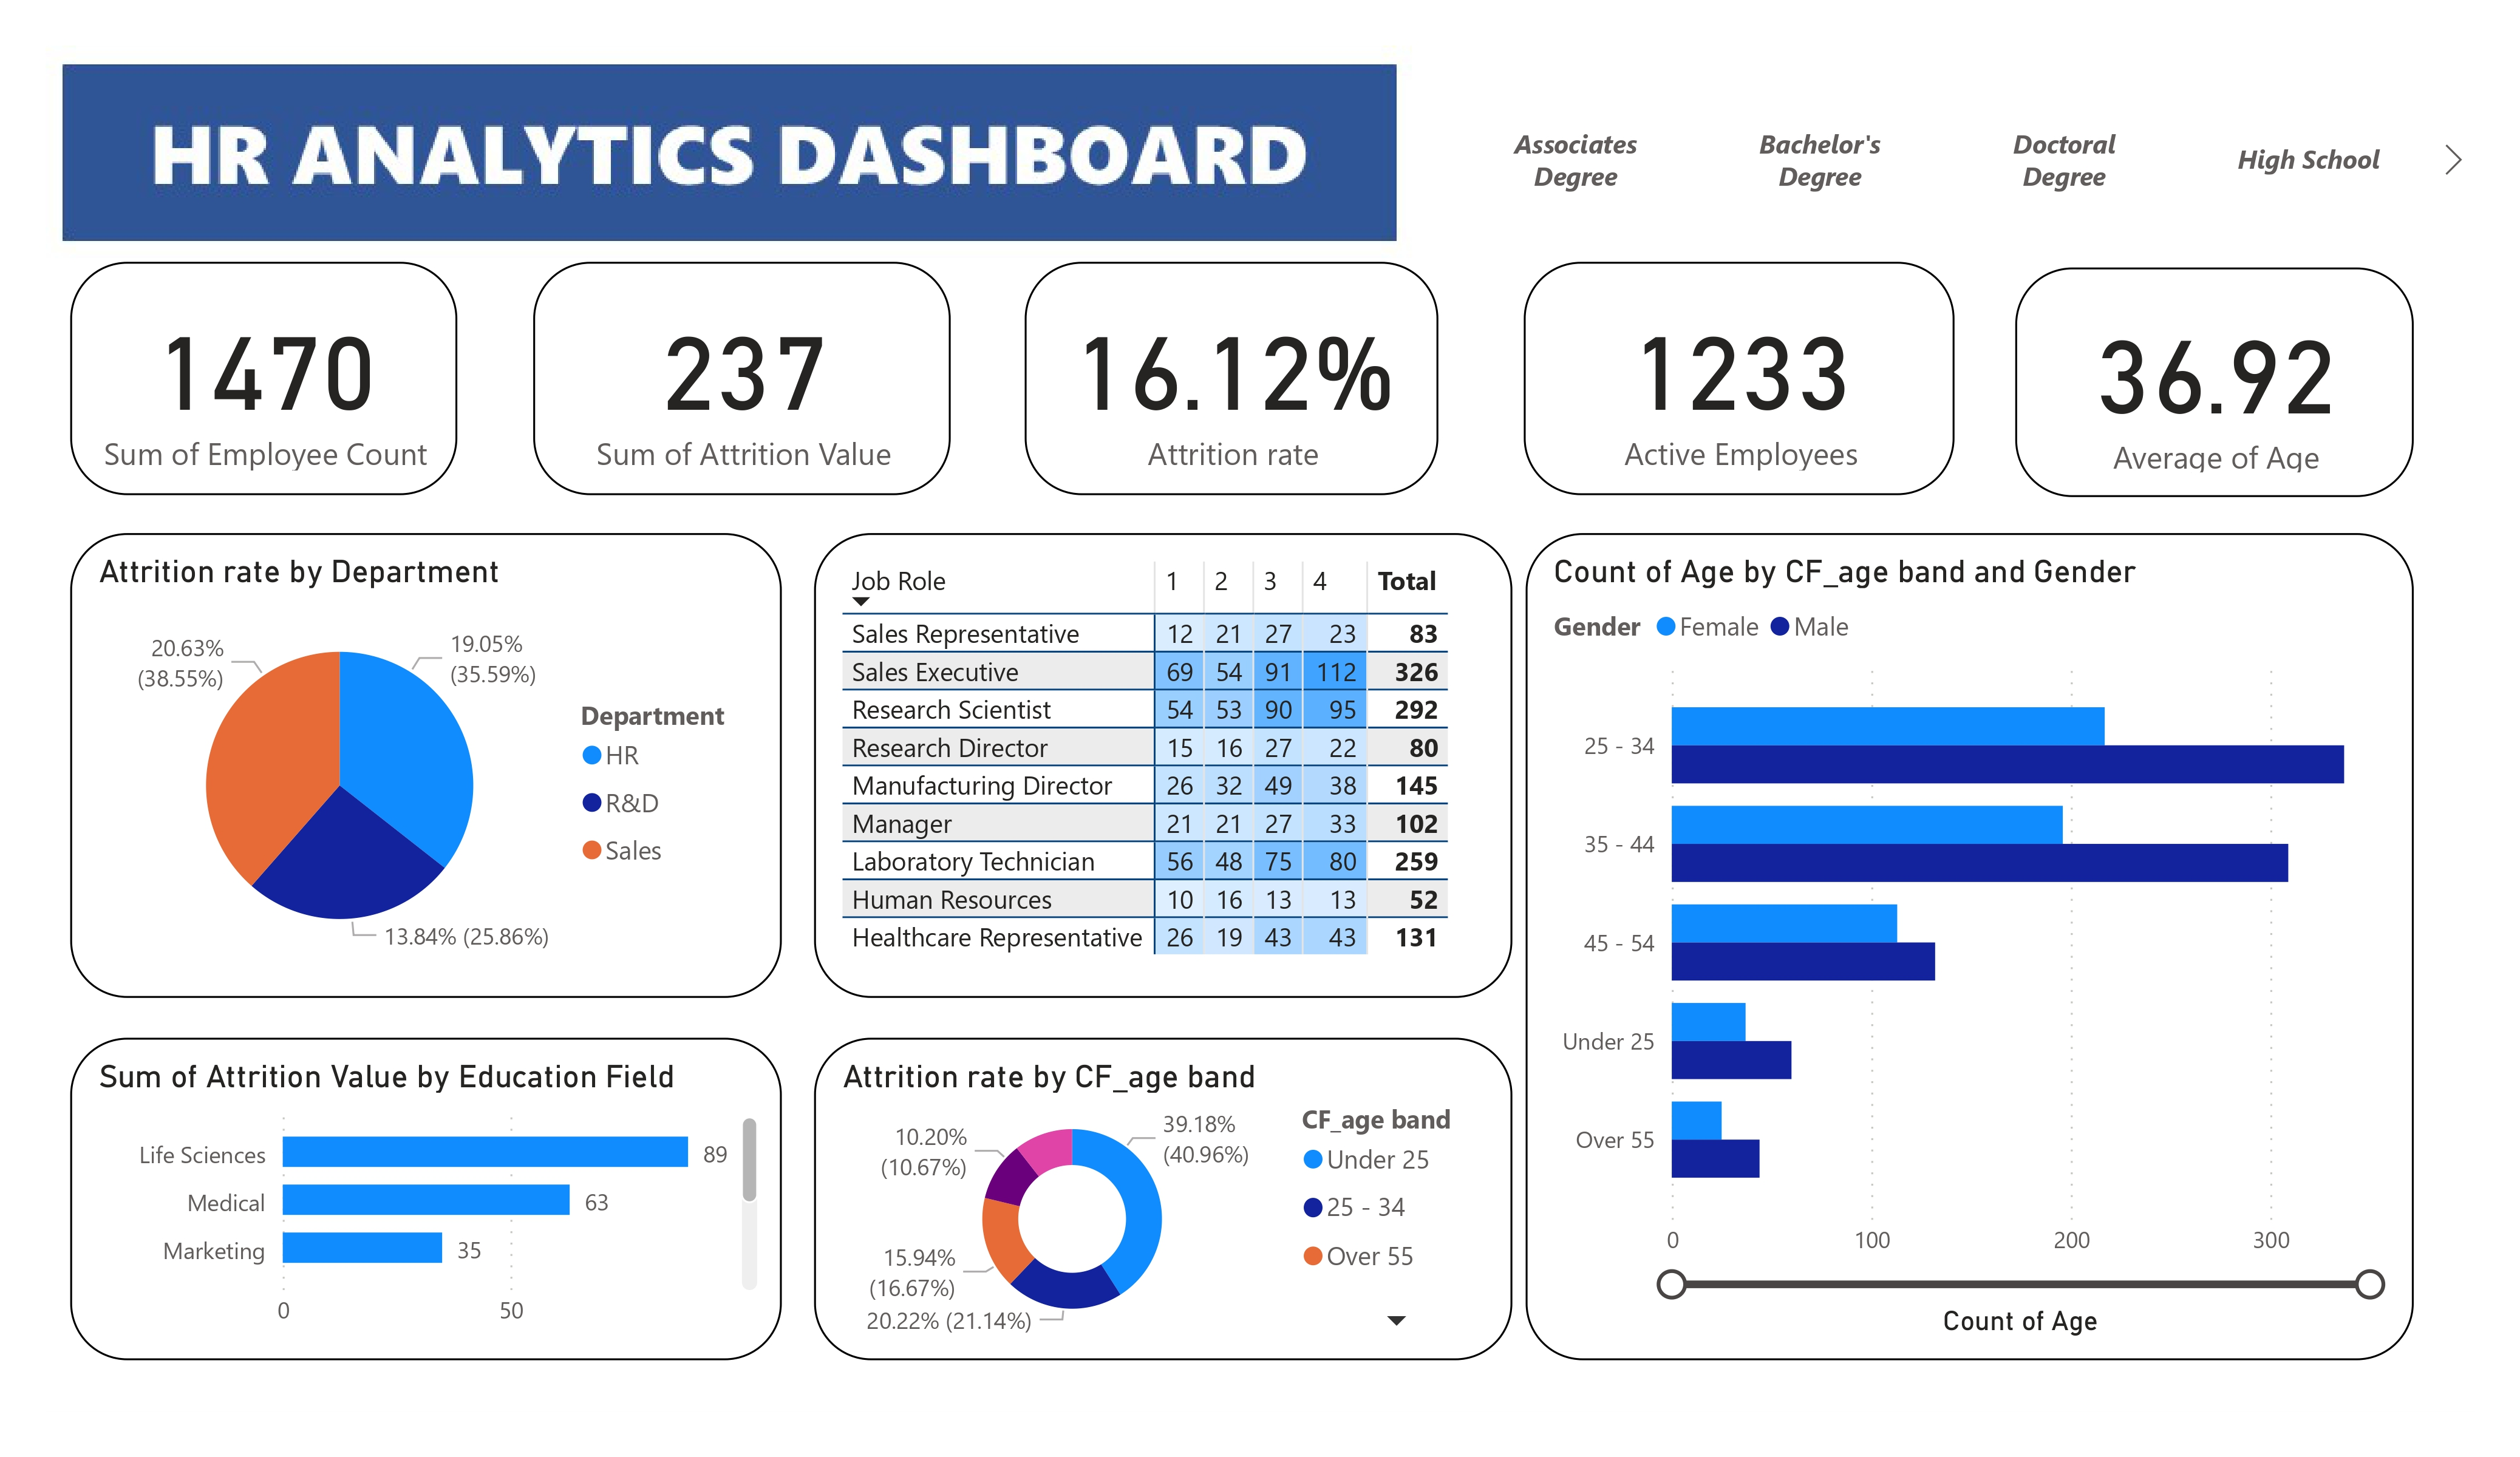

This screenshot's page, from the dashboard's own definition file:
{"tool":"powerbi","page":{"name":"Page 1","canvas":[1280,720],"ordinal":0},"visuals":[{"type":"card","fields":{"Values":["Sum(HR data.Employee Count)"]},"box":[13.4,114.2,203.3,122.6],"z":0},{"type":"card","fields":{"Values":["Sum(HR data.Attrition Value)"]},"box":[257,114.2,220.1,122.6],"z":1000},{"type":"card","fields":{"Values":["HR data.Attrition rate"]},"box":[515.7,114.2,218.4,122.6],"z":2000},{"type":"card","fields":{"Values":["HR data.Active Employees"]},"box":[779.4,114.2,226.8,122.6],"z":3000},{"type":"card","fields":{"Values":["Avg(HR data.Age)"]},"box":[1046.5,114.2,210,122.6],"z":4000},{"type":"slicer","fields":{"Values":["HR data.Education"]},"box":[717.3,18.5,562.7,82.3],"z":5000},{"type":"pieChart","fields":{"Y":["HR data.Attrition rate"],"Series":["HR data.Department"]},"box":[13.4,257,374.6,245.2],"z":6000},{"type":"clusteredBarChart","fields":{"Category":["HR data.CF_age band"],"Y":["CountNonNull(HR data.Age)"],"Series":["HR data.Gender"]},"box":[404.8,257,468.7,245.2],"z":7000},{"type":"pivotTable","fields":{"Rows":["HR data.Job Role"],"Columns":["HR data.Job Satisfaction"],"Values":["Sum(HR data.Employee Count)"]},"box":[912.1,257,367.9,245.2],"z":8000},{"type":"clusteredBarChart","fields":{"Category":["HR data.Education Field"],"Y":["Sum(HR data.Attrition Value)"]},"box":[13.4,524.1,260.4,169.7],"z":9000},{"type":"donutChart","title":"25-34","fields":{"Y":["Sum(HR data.Attrition Value)"],"Category":["HR data.Gender"],"Series":["HR data.CF_age band"]},"box":[477.1,524.1,230.1,169.7],"z":10000},{"type":"donutChart","title":"35-44","fields":{"Y":["Sum(HR data.Attrition Value)"],"Category":["HR data.Gender"],"Series":["HR data.CF_age band"]},"box":[693.8,524.1,218.4,169.7],"z":11000},{"type":"donutChart","title":"45-54 ","fields":{"Y":["Sum(HR data.Attrition Value)"],"Category":["HR data.Gender"],"Series":["HR data.CF_age band"]},"box":[860.1,524.1,218.4,169.7],"z":12000},{"type":"donutChart","title":"Over 55 ","fields":{"Y":["Sum(HR data.Attrition Value)"],"Category":["HR data.Gender"],"Series":["HR data.CF_age band"]},"box":[1046.5,524.1,218.4,169.7],"z":13000},{"type":"card","fields":{"Values":["Sum(HR data.Attrition Value)"]},"box":[544.3,589.6,95.7,62.2],"z":14000},{"type":"card","fields":{"Values":["Sum(HR data.Attrition Value)"]},"box":[764.3,589.6,77.3,62.2],"z":15000},{"type":"card","fields":{"Values":["Sum(HR data.Attrition Value)"]},"box":[903.7,604.7,129.3,31.9],"z":16000},{"type":"donutChart","title":"Under 25","fields":{"Y":["Sum(HR data.Attrition Value)"],"Category":["HR data.Gender"]},"box":[273.8,524.1,221.7,169.7],"z":17000},{"type":"card","fields":{"Values":["Sum(HR data.Attrition Value)"]},"box":[334.3,582.9,100.8,75.6],"z":18000},{"type":"card","fields":{"Values":["Sum(HR data.Attrition Value)"]},"box":[1085.1,579.5,139.4,84],"z":18001}]}

Visuals, with their boxes on the page's 1280x720 design canvas (x1, y1, x2, y2). These are canvas units, not pixel positions in the 2520x1457 screenshot, which may show the page scaled, cropped or inside an application window:
card - Sum(HR data.Employee Count): 13:114:217:237
card - Sum(HR data.Attrition Value): 257:114:477:237
card - HR data.Attrition rate: 516:114:734:237
card - HR data.Active Employees: 779:114:1006:237
card - Avg(HR data.Age): 1046:114:1256:237
slicer - HR data.Education: 717:18:1280:101
pieChart - HR data.Attrition rate x HR data.Department: 13:257:388:502
clusteredBarChart - HR data.CF_age band x CountNonNull(HR data.Age): 405:257:874:502
pivotTable - HR data.Job Role x HR data.Job Satisfaction: 912:257:1280:502
clusteredBarChart - HR data.Education Field x Sum(HR data.Attrition Value): 13:524:274:694
"25-34" donutChart: 477:524:707:694
"35-44" donutChart: 694:524:912:694
"45-54 " donutChart: 860:524:1078:694
"Over 55 " donutChart: 1046:524:1265:694
card - Sum(HR data.Attrition Value): 544:590:640:652
card - Sum(HR data.Attrition Value): 764:590:842:652
card - Sum(HR data.Attrition Value): 904:605:1033:637
"Under 25" donutChart: 274:524:496:694
card - Sum(HR data.Attrition Value): 334:583:435:658
card - Sum(HR data.Attrition Value): 1085:580:1224:664
